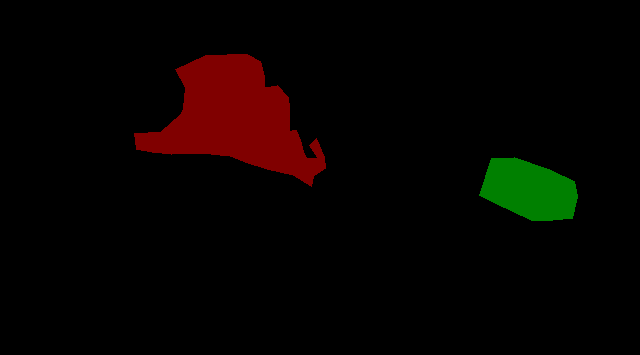fire: (134, 54, 325, 186), (479, 157, 577, 220)
